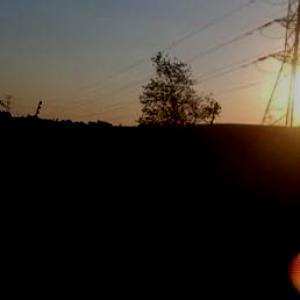follow: (105, 125, 186, 299)
